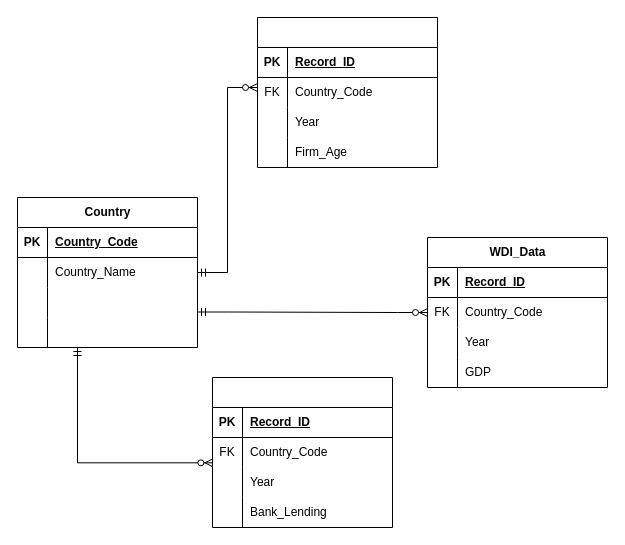
This 625x545 diagram has some shape labels left out. The shapes that lost their labels are listed below. From the top down, each one's box as (x1, y1, x2, y2) in pixels, then its label:
(256, 16, 438, 168): Enterprise_Indicators
(212, 376, 392, 528): Financial_Development
